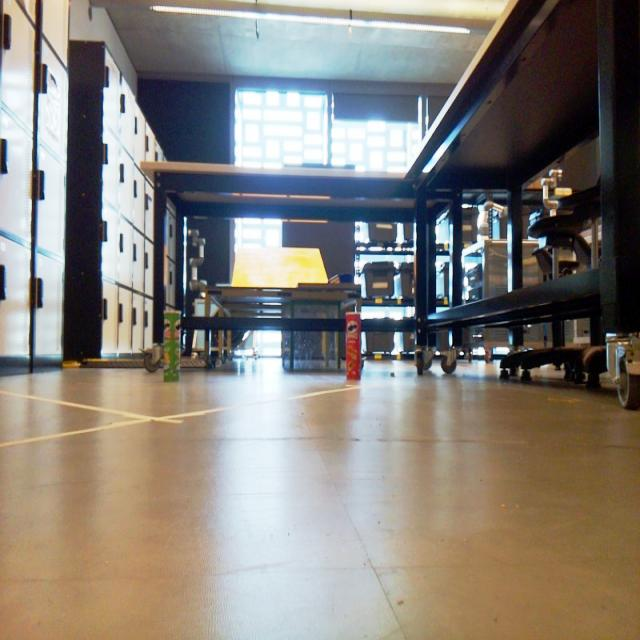greenpringles: (137, 292, 200, 396)
redpringles: (335, 302, 375, 402)
